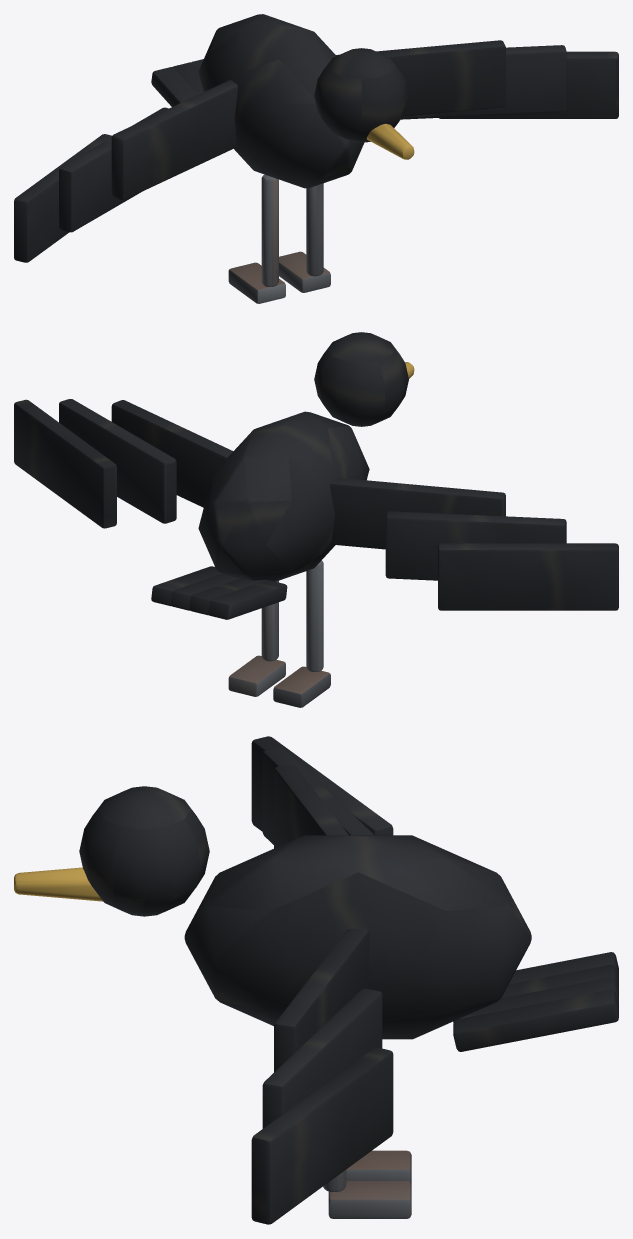
Rendered from unit_freetown_crow.fbx.
3 renders of one model, top to bottom at view 1: azimuth 30°, elevation 25°; view 2: azimuth 150°, elevation 25°; view 3: azimuth 270°, elevation 25°, orthographic. The views are drawn at different scales.
Visible parts, largest first — view 1: unit_freetown_crow; view 2: unit_freetown_crow; view 3: unit_freetown_crow.
Boxes of the visible parts, <box> form: unit_freetown_crow: <box>14,14,618,303</box>; unit_freetown_crow: <box>14,332,618,707</box>; unit_freetown_crow: <box>14,736,618,1224</box>.
Bounding box in the file's own units: 1.62 × 0.75 × 1.02.
